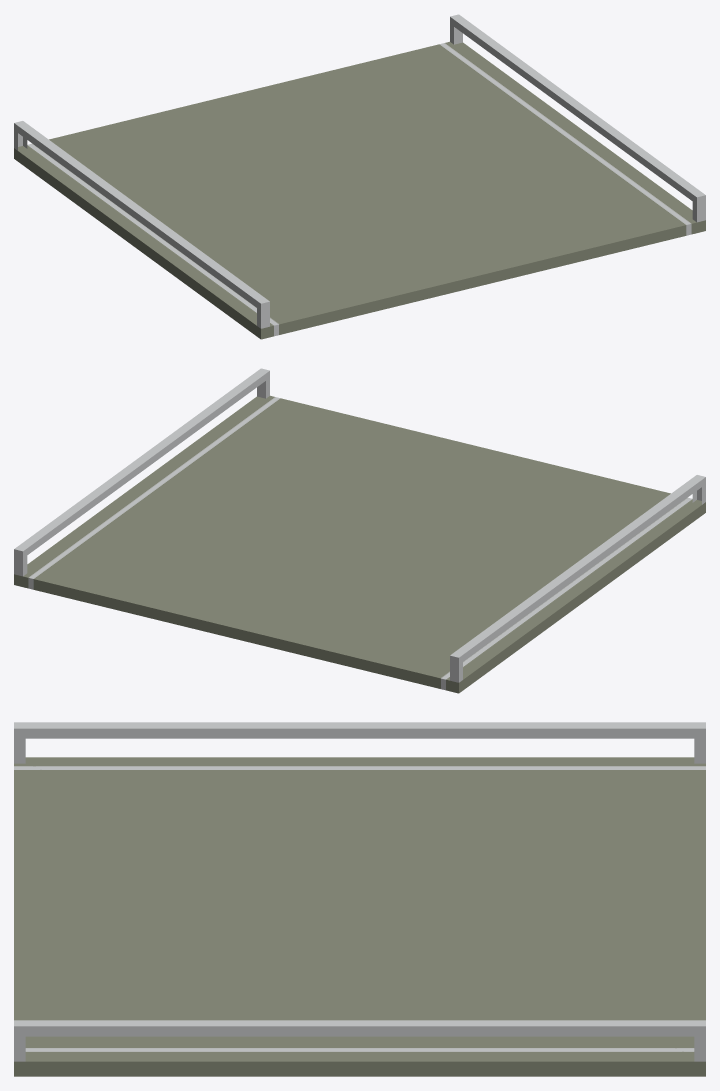
Rendered from Road_03.fbx.
3 views of the same model, one above another, from view 1: azimuth 30°, elevation 25°; view 2: azimuth 150°, elevation 25°; view 3: azimuth 270°, elevation 25° (orthographic). The views are drawn at different scales.
Parts seen in each view (by area): view 1: Road_03; view 2: Road_03; view 3: Road_03.
Boxes of the visible parts, x1=… form: Road_03: x1=14, y1=14, x2=705, y2=339; Road_03: x1=14, y1=368, x2=705, y2=693; Road_03: x1=14, y1=722, x2=705, y2=1076.
Bounding box in the file's own units: 2600 × 200 × 2500.
